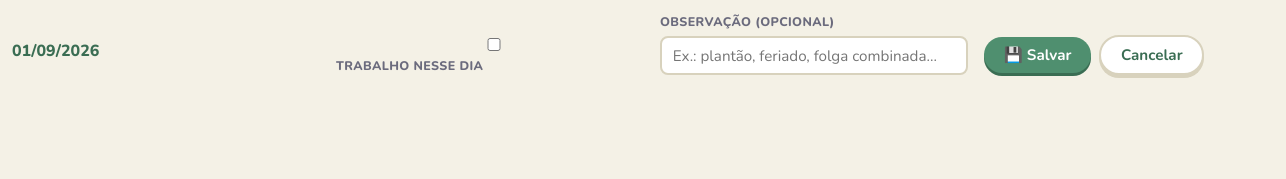
FormularioExcecaoDoDia › marcar "trabalho nesse dia" sem horário prévio nenhum mostra 09:00-18:00 como padrão, não vazio
Click the checkbox labelled "Trabalho nesse dia". click: click(494, 44)
box: [340, 38, 648, 51]
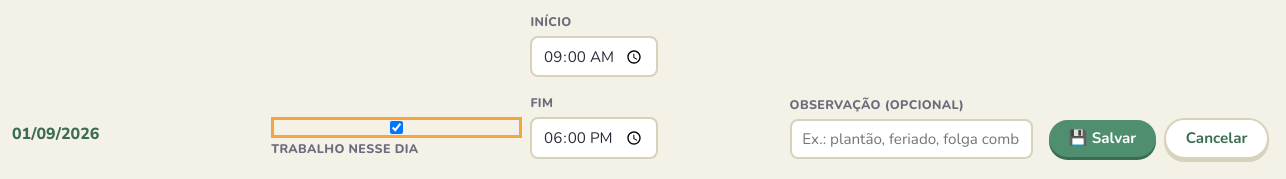
Expected: the time field labelled "Início" holds "09:00", [530, 36, 658, 77]
Expected: the time field labelled "Fim" holds "18:00", [530, 118, 658, 159]
